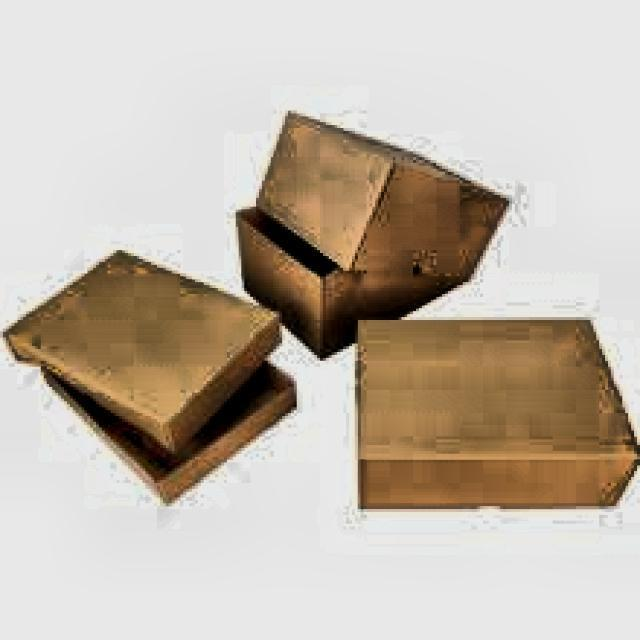cardboard: (232, 108, 510, 358), (0, 247, 282, 454), (352, 314, 640, 509), (38, 358, 297, 503)
